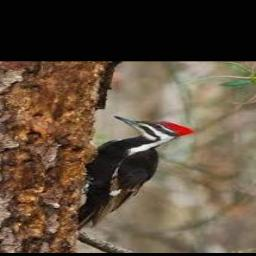Woodpecker: (76, 116, 193, 230)
